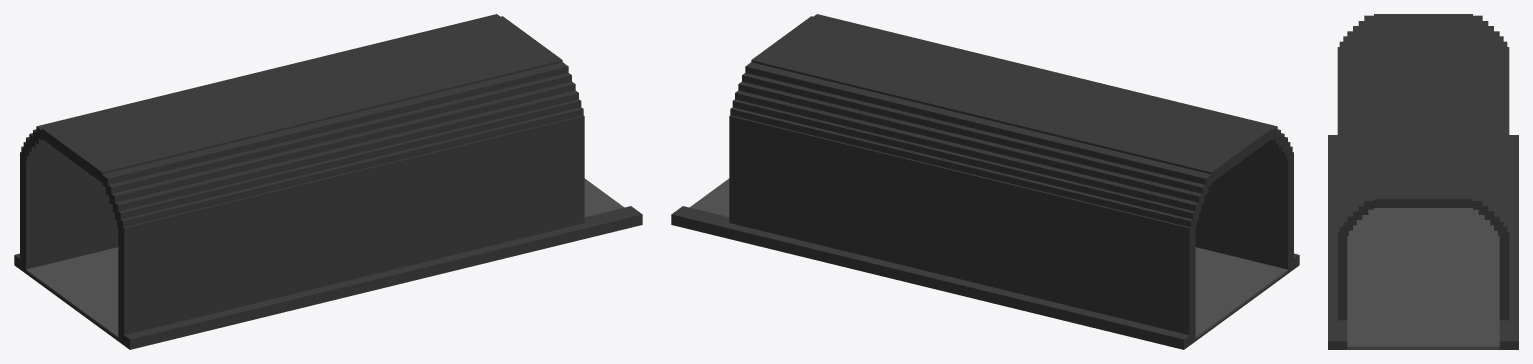
Rendered from TunnelPeace.obj.
3 renders of one model, left to right at view 1: azimuth 30°, elevation 25°; view 2: azimuth 150°, elevation 25°; view 3: azimuth 270°, elevation 25°, orthographic. The views are drawn at different scales.
Size of the model in its own units: 25.6 by 7.5 by 10.
1 material, 1 textured.
